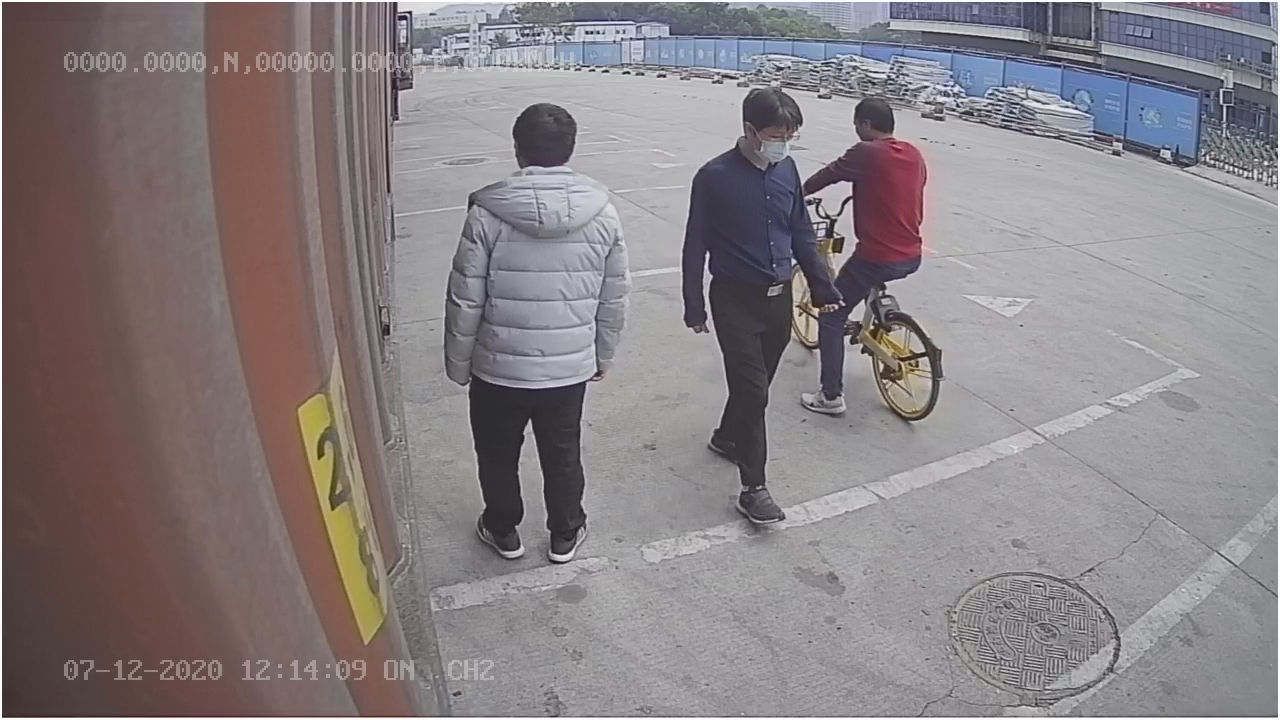person: (443, 95, 630, 561)
